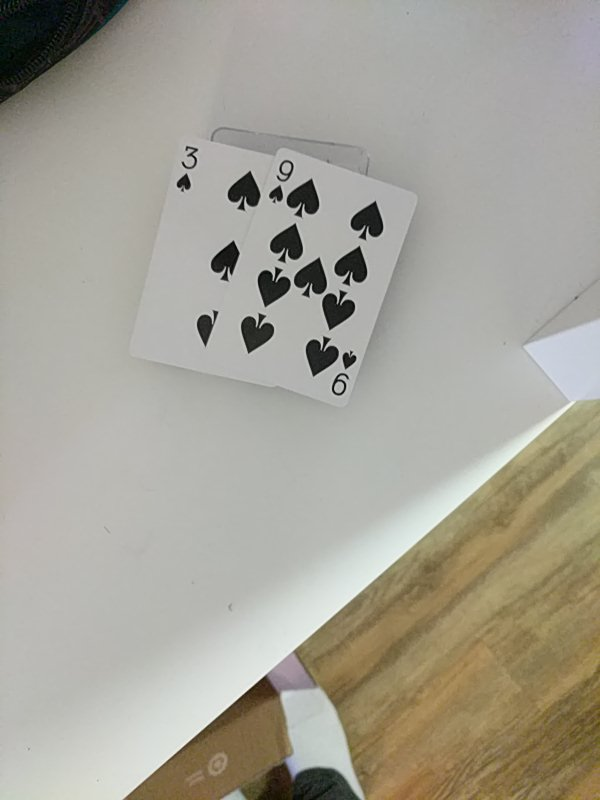Spades: (207, 148, 419, 408), (128, 137, 285, 391)
